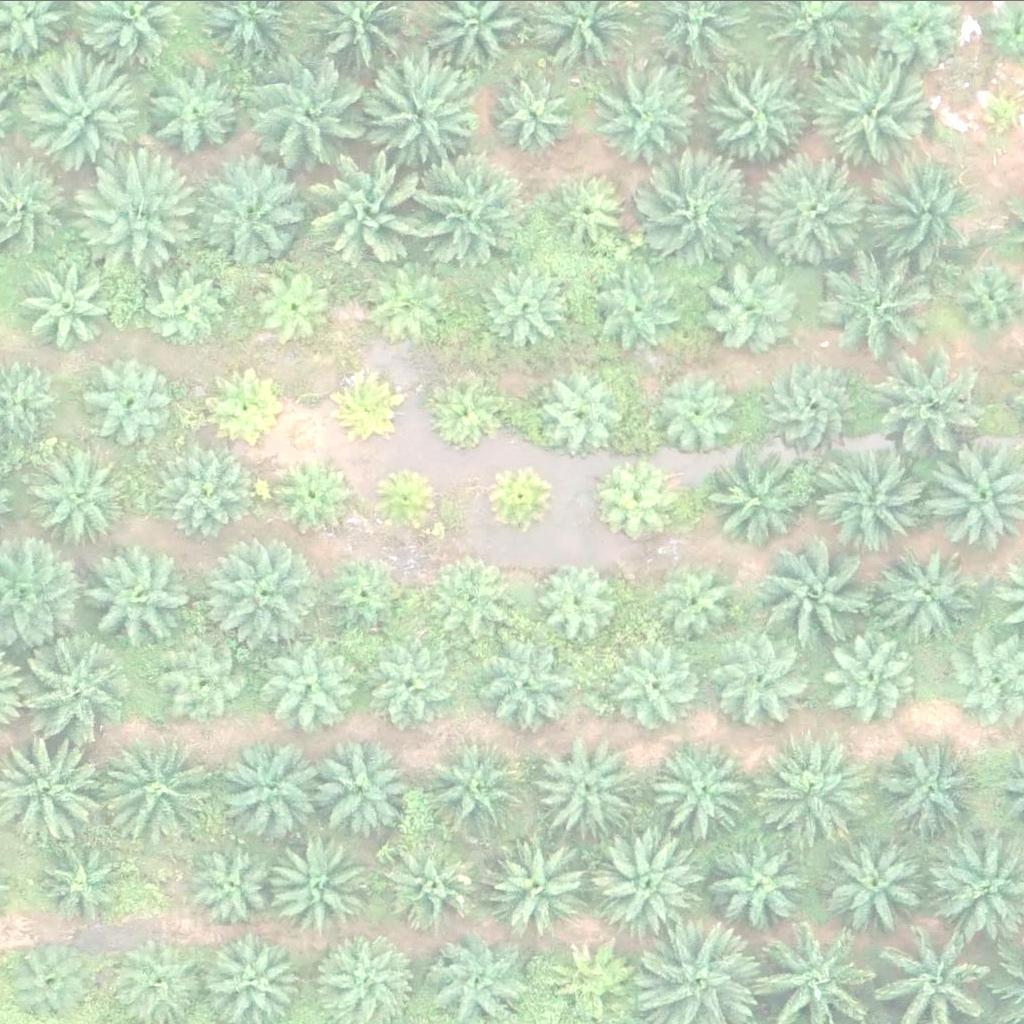Kelapa_Sawit: (696, 55, 809, 168), (757, 158, 870, 271), (654, 735, 767, 848), (763, 734, 876, 847), (820, 824, 933, 937), (256, 50, 369, 163), (414, 151, 527, 264), (82, 537, 195, 650), (205, 536, 318, 649), (18, 627, 131, 740), (109, 737, 222, 850), (859, 159, 973, 271), (820, 442, 934, 554), (33, 52, 147, 164), (318, 146, 432, 258), (597, 63, 710, 175), (814, 58, 927, 170), (648, 161, 761, 273), (865, 348, 978, 460), (759, 544, 872, 656), (598, 824, 711, 936), (361, 56, 474, 168), (192, 159, 305, 271), (77, 159, 190, 271), (832, 263, 933, 363), (708, 450, 809, 550), (876, 547, 977, 647), (713, 626, 814, 726), (533, 737, 634, 837), (713, 830, 814, 930), (138, 63, 239, 163), (22, 252, 123, 352), (26, 448, 127, 548), (225, 741, 326, 841), (308, 736, 409, 836), (481, 836, 582, 936), (425, 737, 526, 837), (477, 630, 578, 730), (273, 834, 374, 934), (698, 256, 798, 356), (766, 358, 866, 458), (881, 737, 982, 836), (547, 168, 635, 256), (540, 373, 628, 461), (612, 647, 700, 735), (320, 551, 408, 639), (438, 551, 526, 639), (492, 68, 580, 156), (34, 843, 122, 931), (248, 265, 336, 353), (371, 260, 459, 348), (276, 641, 364, 729), (368, 640, 456, 728), (184, 838, 272, 926), (597, 269, 686, 356), (656, 372, 744, 459), (536, 556, 624, 643), (660, 559, 748, 646), (828, 633, 916, 720), (146, 263, 234, 350), (480, 262, 568, 349), (156, 448, 244, 535), (87, 361, 175, 448), (165, 636, 253, 723), (390, 844, 478, 931), (214, 935, 302, 1022), (550, 936, 638, 1023), (426, 379, 502, 454), (606, 462, 682, 537), (479, 457, 555, 532), (330, 364, 406, 439), (272, 454, 347, 529), (369, 462, 444, 537), (208, 364, 283, 439)
